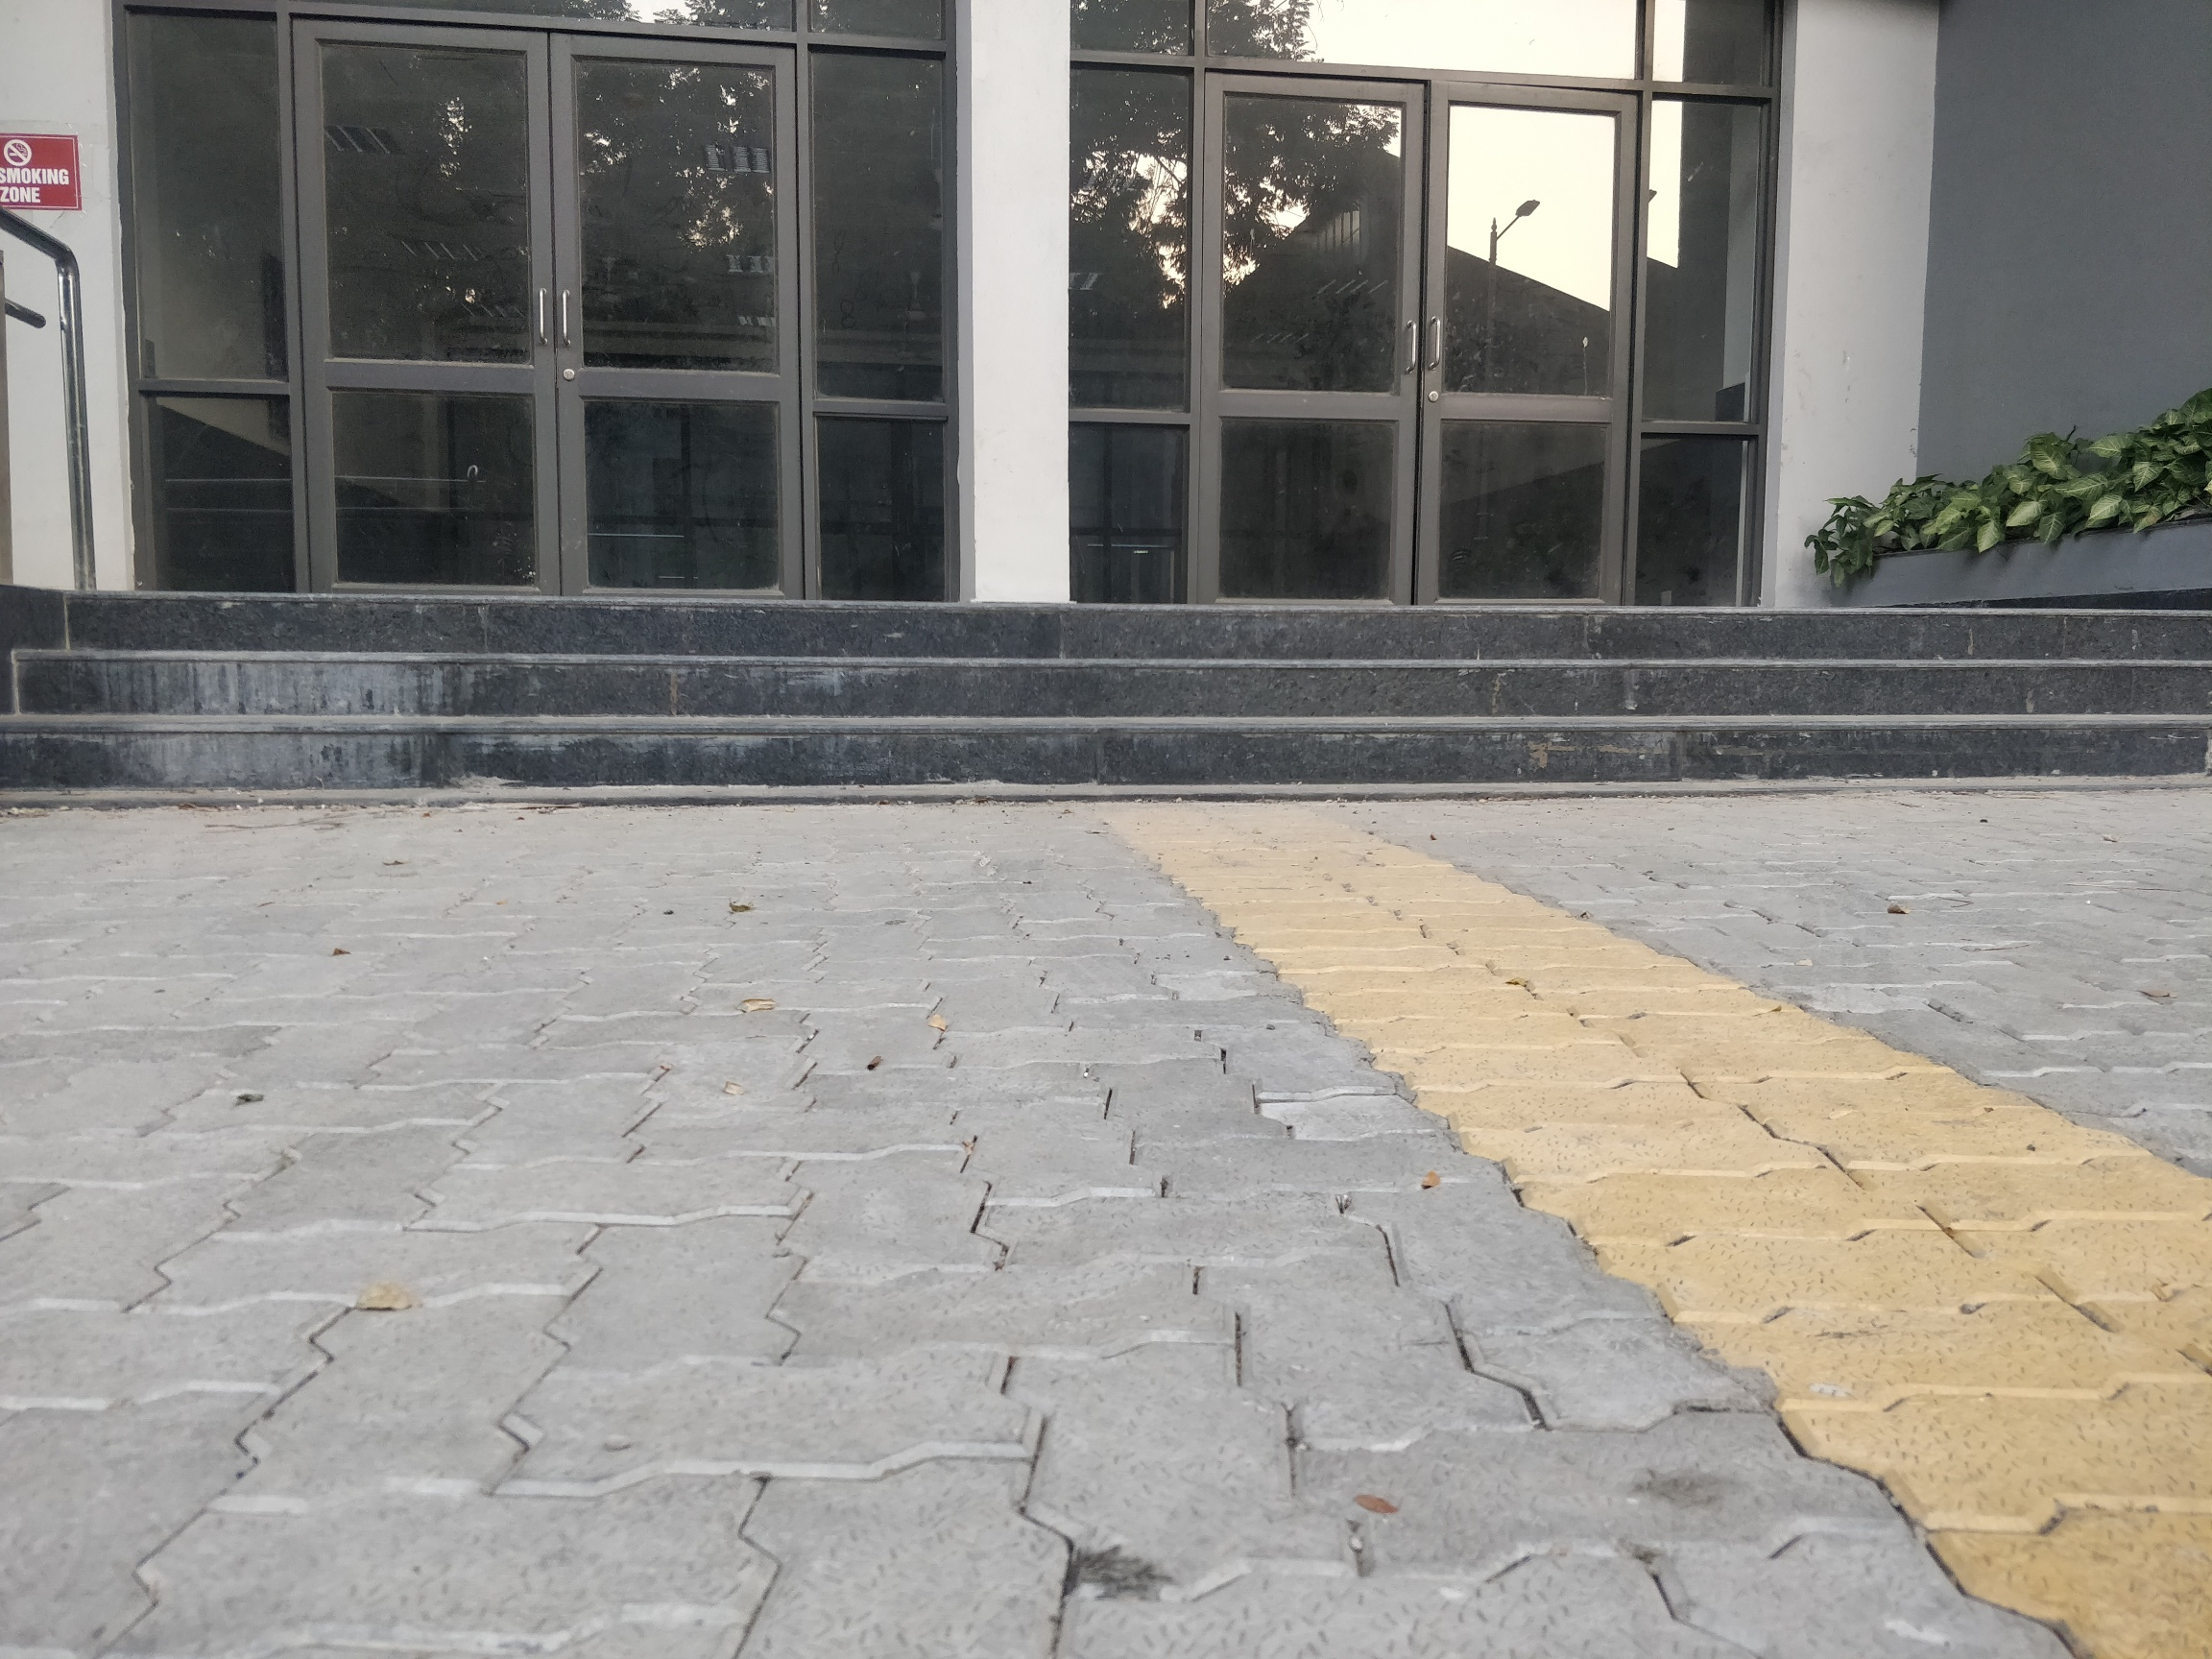stairs_up: (7, 579, 2212, 816)
